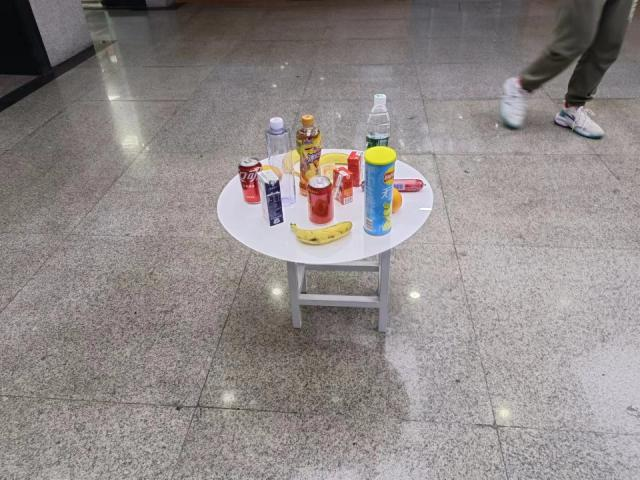Canned_drinks: (306, 176, 335, 223), (238, 156, 263, 205)
bottle: (264, 117, 298, 205), (366, 94, 392, 176)
cylinder: (364, 146, 396, 236)
drink_box: (258, 169, 284, 226), (334, 166, 352, 205), (348, 150, 363, 187)
